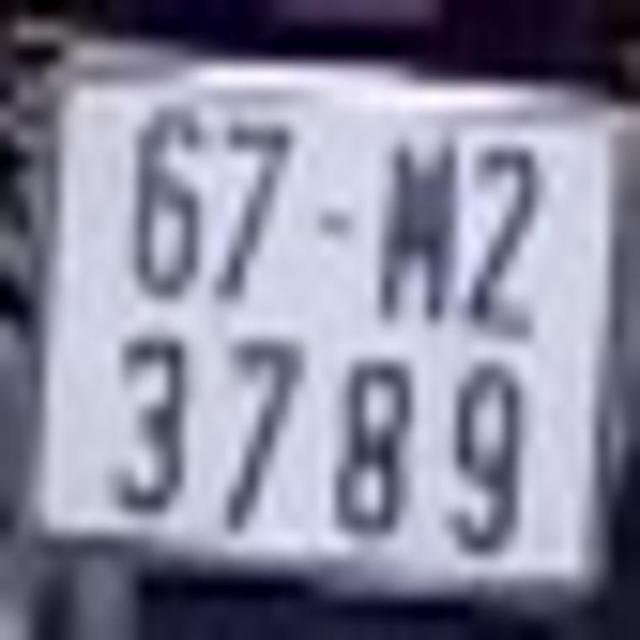2: (470, 140, 541, 332)
3: (110, 329, 190, 518)
6: (130, 97, 204, 301)
7: (216, 331, 306, 535), (210, 113, 294, 304)
8: (333, 353, 411, 540)
9: (450, 360, 520, 555)
M: (378, 133, 457, 326)
